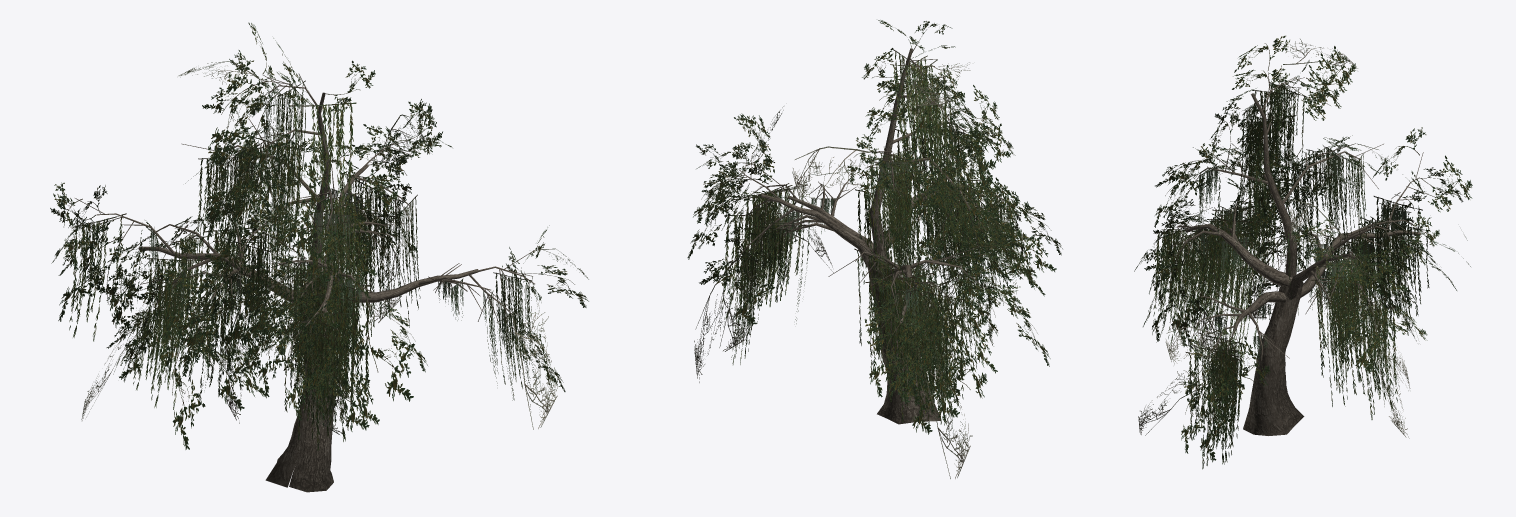
File: tree_v6_decid_gothic_weeping_summer.glb
3 renders of one model, left to right at view 1: azimuth 30°, elevation 25°; view 2: azimuth 150°, elevation 25°; view 3: azimuth 270°, elevation 25°, orthographic. The views are drawn at different scales.
Visible parts, largest first — view 1: tree_v6_decid_gothic_weeping_summer_LOD0; view 2: tree_v6_decid_gothic_weeping_summer_LOD0; view 3: tree_v6_decid_gothic_weeping_summer_LOD0.
Boxes of the visible parts, x1,y1,x2,y2 form: tree_v6_decid_gothic_weeping_summer_LOD0: (50,22,588,492); tree_v6_decid_gothic_weeping_summer_LOD0: (687,20,1062,478); tree_v6_decid_gothic_weeping_summer_LOD0: (1134,35,1472,469).
Size of what is drawn, in the model's own units: 9.43 by 8.49 by 7.5.
1 material, 1 textured.
